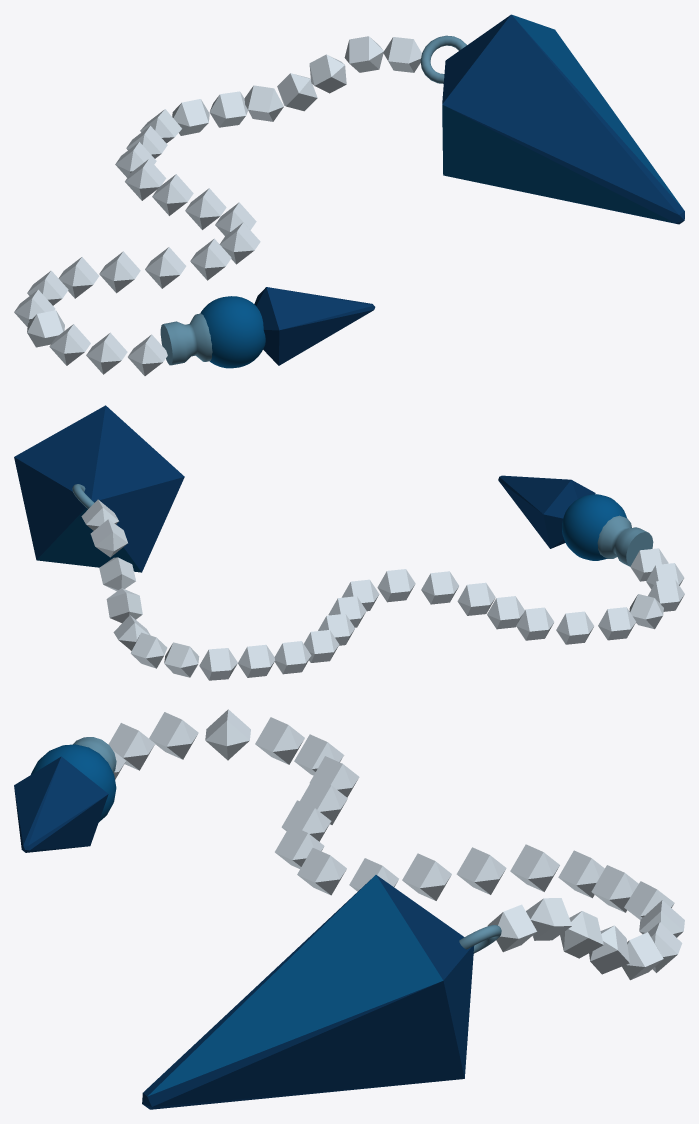
File: pendulum.fbx
3 renders of one model, top to bottom at view 1: azimuth 30°, elevation 25°; view 2: azimuth 150°, elevation 25°; view 3: azimuth 270°, elevation 25°, orthographic. The views are drawn at different scales.
Visible parts, largest first — view 1: PENDULM; view 2: PENDULM; view 3: PENDULM.
Boxes of the visible parts, x1,y1,x2,y2 form: PENDULM: [14, 14, 684, 375]; PENDULM: [14, 405, 684, 680]; PENDULM: [14, 709, 684, 1109].
Size of the model in its own units: 11.93 by 2.91 by 9.21.
